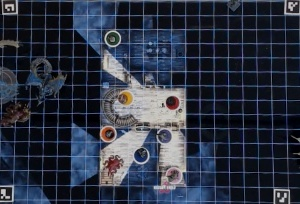blue: (131, 146, 150, 167)
green: (103, 29, 121, 48)
orange: (98, 123, 117, 143)
pink: (162, 163, 185, 185)
red: (162, 94, 180, 110)
violet: (154, 126, 174, 146)
yellow: (117, 88, 136, 107)
